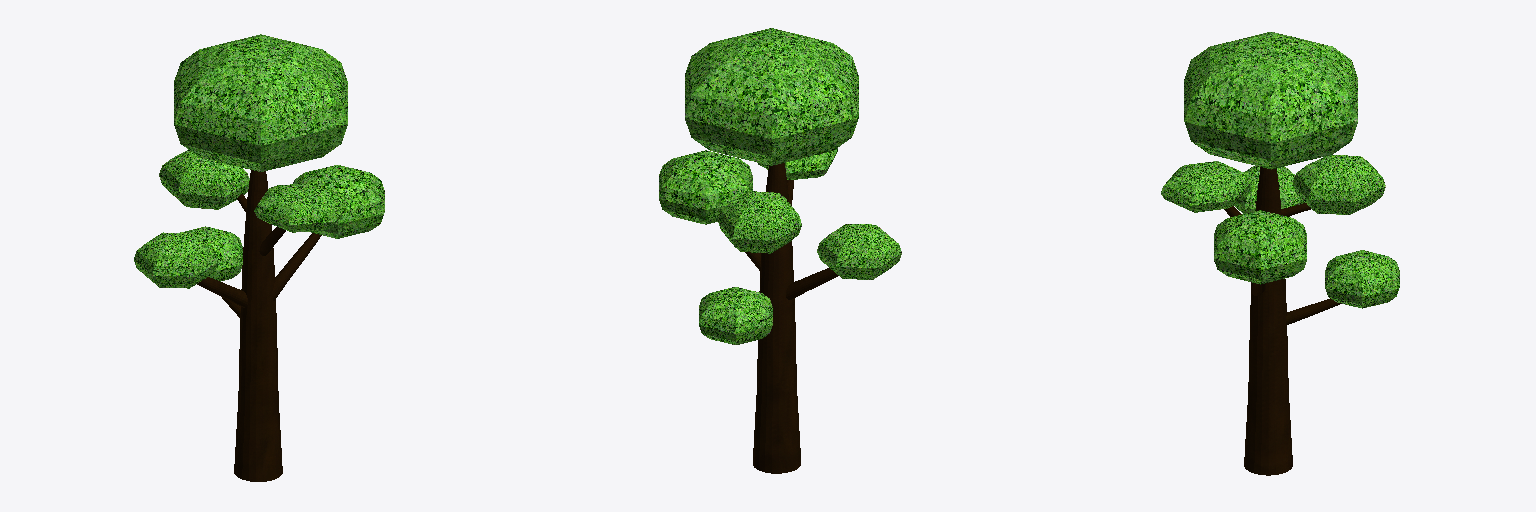
3 renders of one model, left to right at view 1: azimuth 30°, elevation 25°; view 2: azimuth 150°, elevation 25°; view 3: azimuth 270°, elevation 25°, orthographic.
Parts seen in each view (by area): view 1: pCylinder7; view 2: pCylinder7; view 3: pCylinder7.
Part boxes in pixels (x1,y1,x2,y2): pCylinder7: (134, 34, 384, 481); pCylinder7: (659, 28, 901, 473); pCylinder7: (1161, 32, 1399, 475).
Bounding box in the file's own units: 1.39 × 2.36 × 1.21.
Materials: 1 (1 with a texture image).